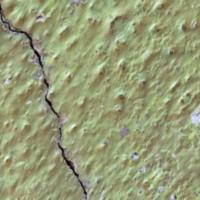crack: (0, 2, 91, 200)
